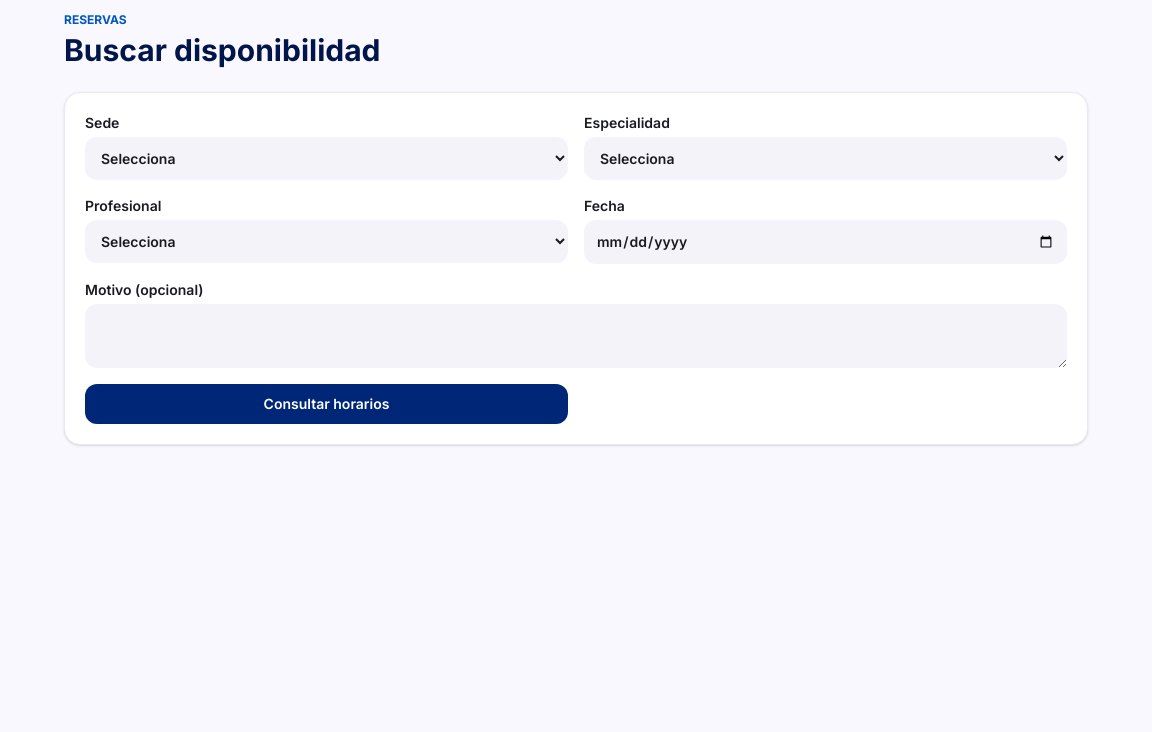
Test: BookingScreen › general reservation is confirmed immediately (APPROVED)
The image size is (1152, 732).
Step 1. Select "Sede Sintética" in the dropdown labelled "Sede" → [326, 158], box [85, 137, 568, 180]
Step 2. Select "Medicina General · 30 min" in the dropdown labelled "Especialidad" → [826, 158], box [584, 137, 1067, 180]
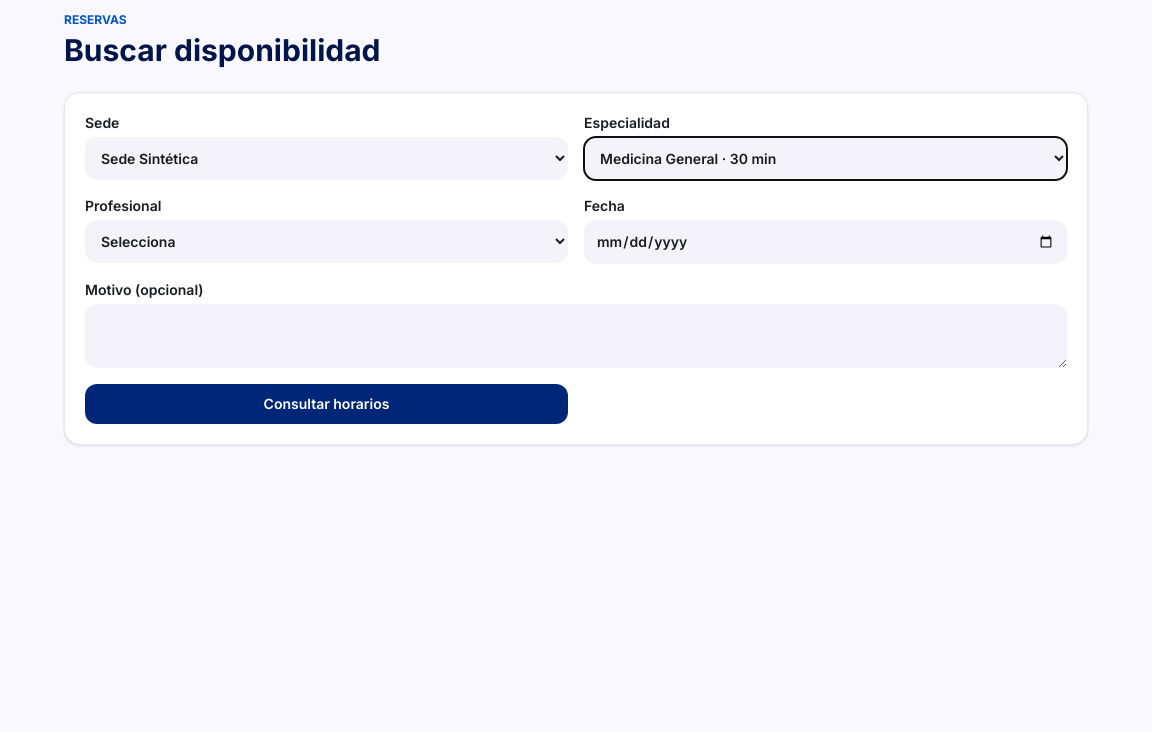
Step 3. Select "Ana Prueba" in the dropdown labelled "Profesional" → [326, 242], box [85, 220, 568, 263]
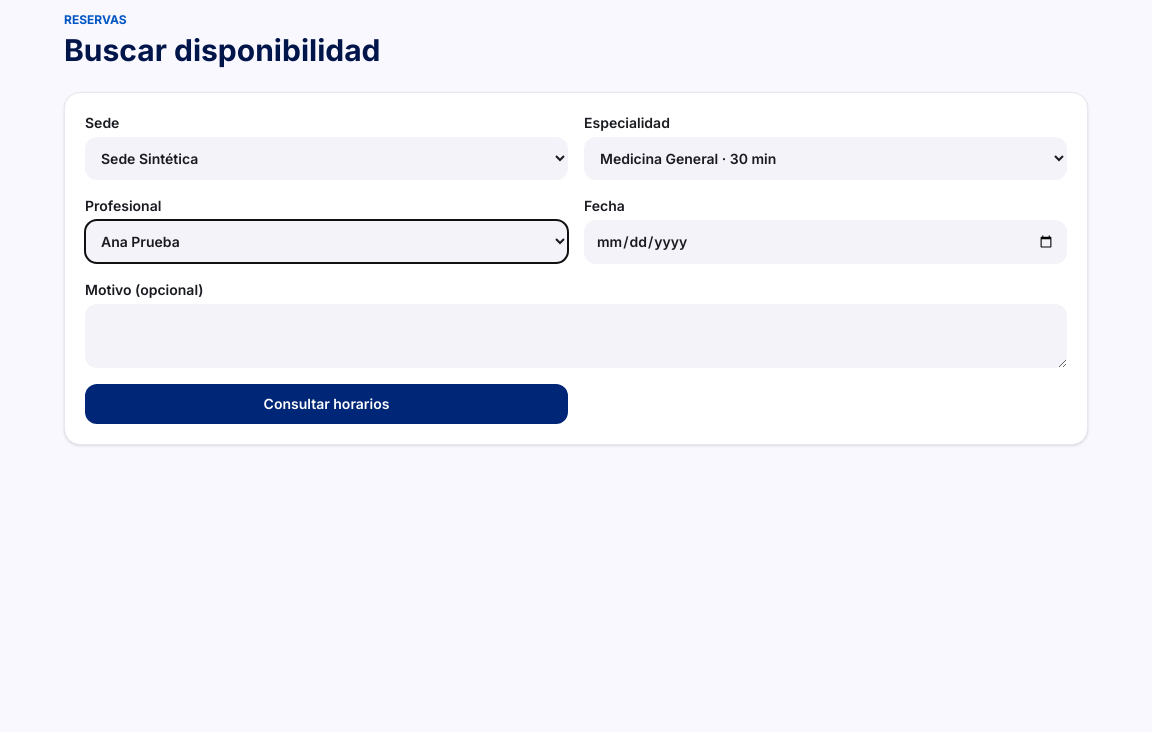
Step 4. Type "2099-06-01" into the date field labelled "Fecha" → [826, 242], box [584, 220, 1067, 264]
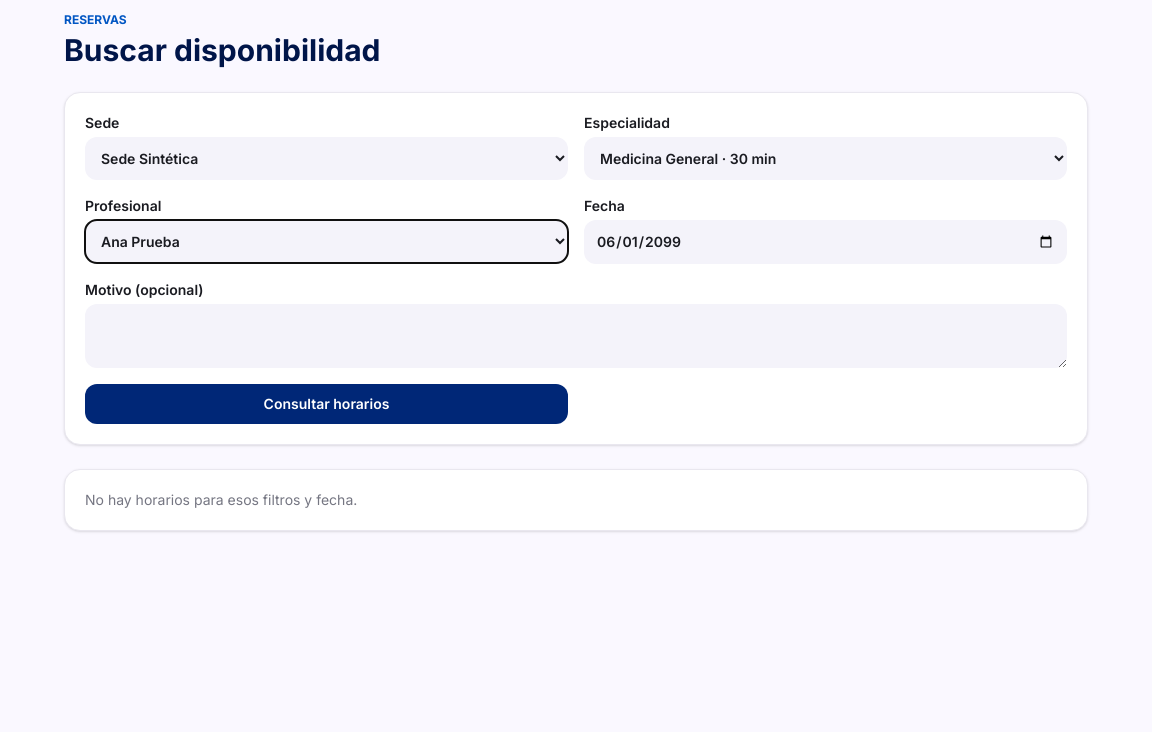
Step 5. Click the button "Consultar horarios" → [326, 404], box [85, 384, 568, 424]
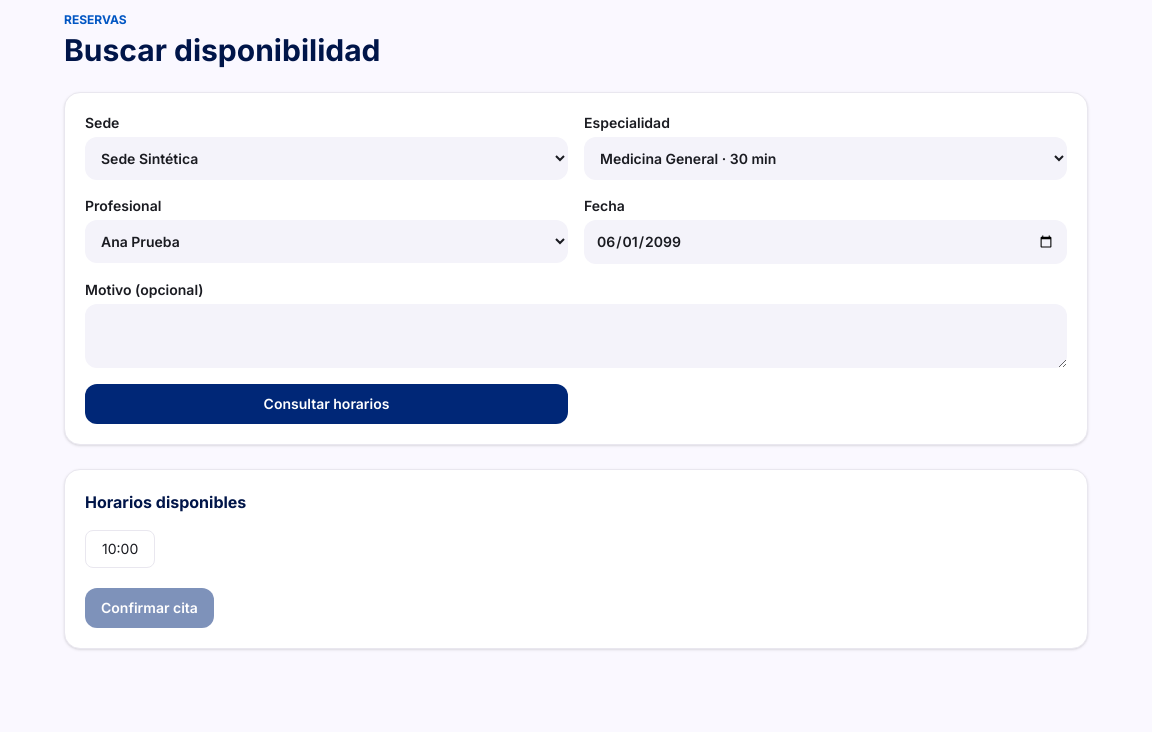
Step 6. Click the button "10:00" → [120, 549], box [85, 530, 155, 568]
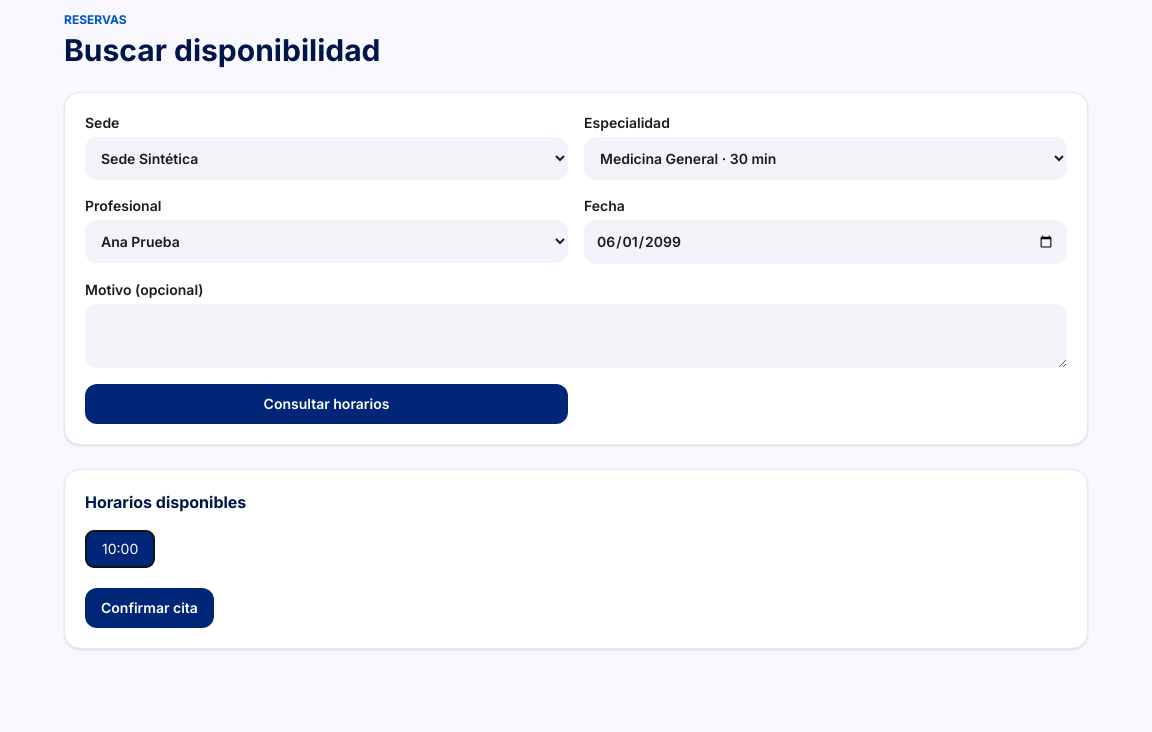
Step 7. Click the button "Confirmar cita" → [149, 608], box [85, 588, 214, 628]
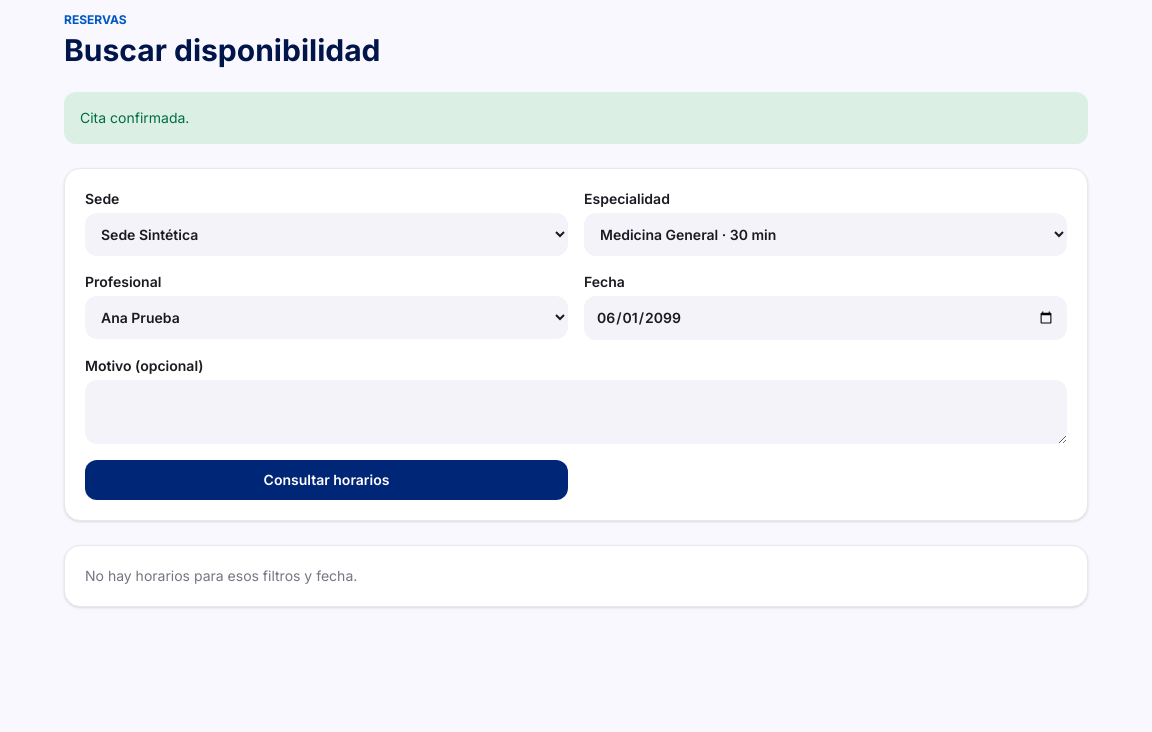
Expected: the message reads "Cita confirmada.", [80, 109, 189, 126]
